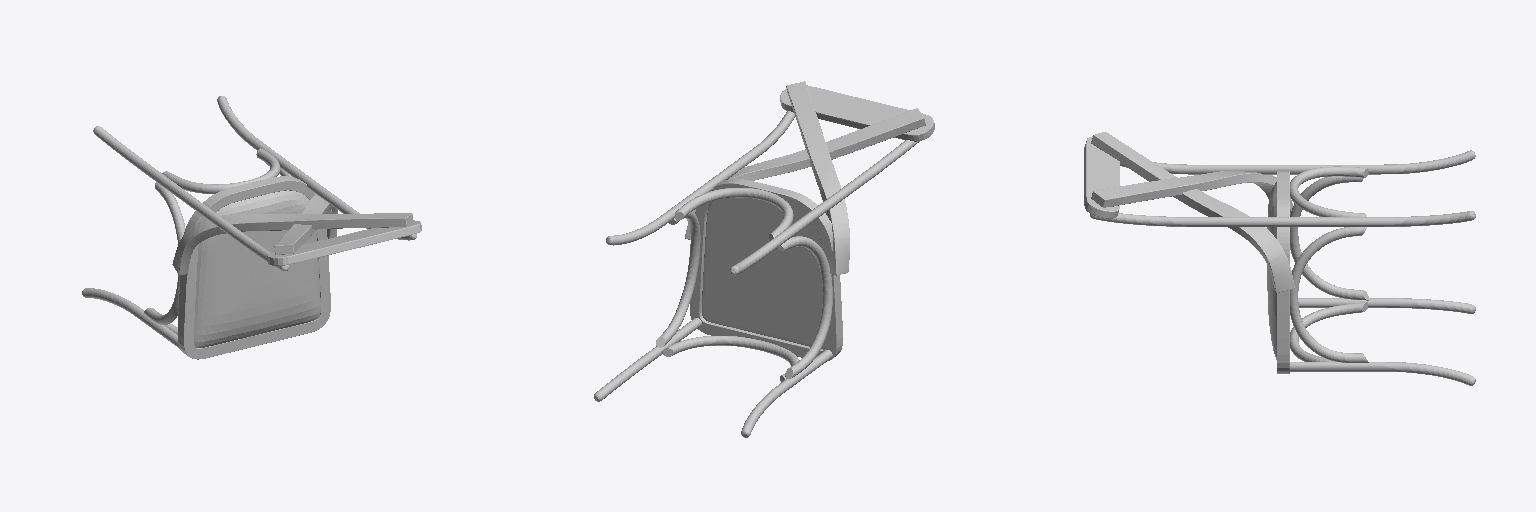
The model's file is 20828_X-back_Side_Chair_v1_NEW.obj.
3 views of the same model, side by side, from view 1: azimuth 30°, elevation 25°; view 2: azimuth 150°, elevation 25°; view 3: azimuth 270°, elevation 25° (orthographic).
Parts seen in each view (by area): view 1: 20828_X_back_Side_Chair_v1; view 2: 20828_X_back_Side_Chair_v1; view 3: 20828_X_back_Side_Chair_v1.
Boxes of the visible parts, <box> form: 20828_X_back_Side_Chair_v1: <box>82,96,421,359</box>; 20828_X_back_Side_Chair_v1: <box>594,81,934,437</box>; 20828_X_back_Side_Chair_v1: <box>1084,132,1475,385</box>.
Size of the model in its own units: 4.46 by 5.07 by 9.6.